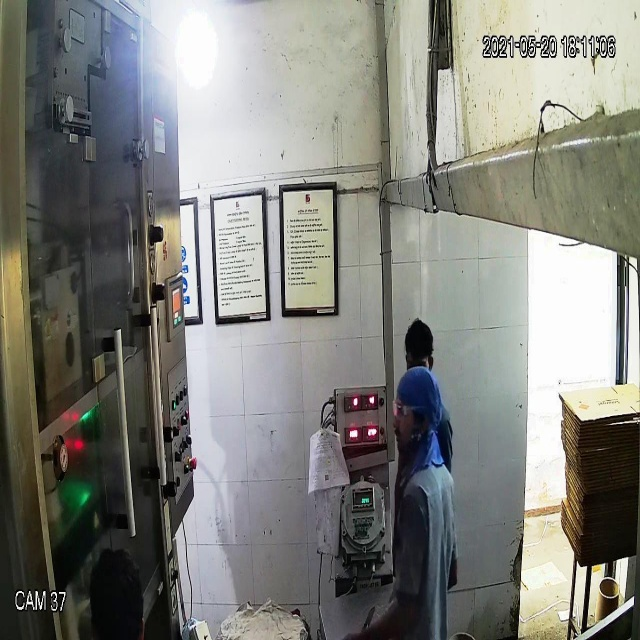Gafas: (389, 395, 429, 423)
